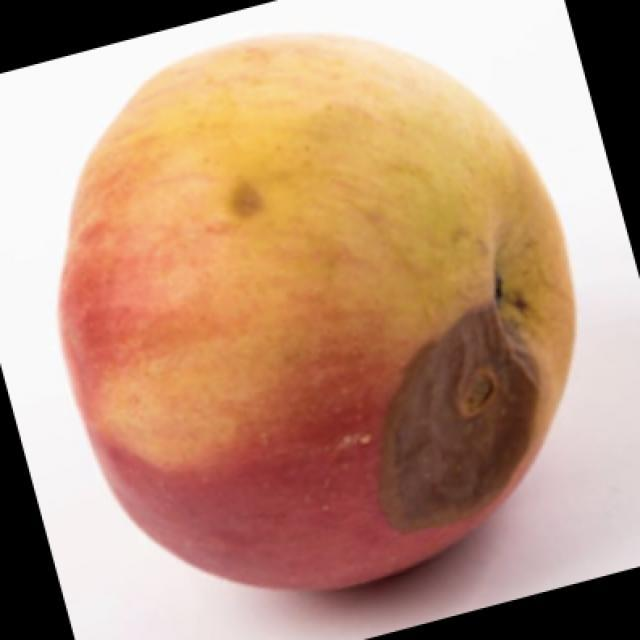Rotten: (32, 52, 583, 583)
